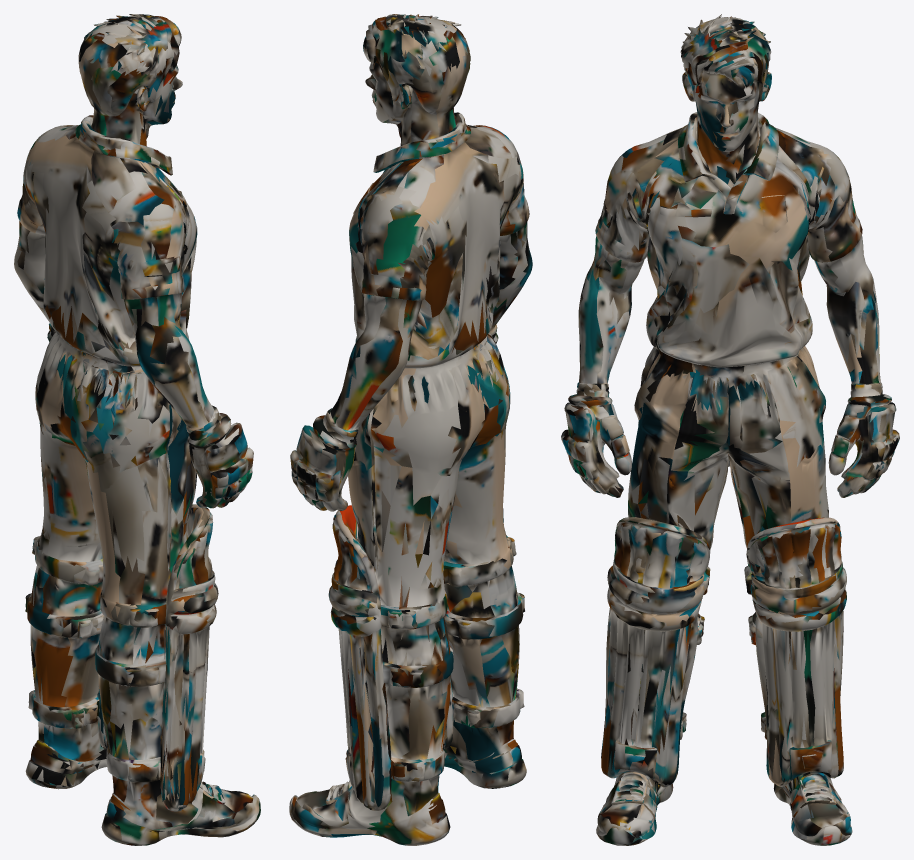
Rendered from SM_C26_Player_Fielder4.fbx.
The picture shows the model from 3 angles, left to right: view 1: azimuth 30°, elevation 25°; view 2: azimuth 150°, elevation 25°; view 3: azimuth 270°, elevation 25°; orthographic projection.
Visible parts, largest first — view 1: node_0; view 2: node_0; view 3: node_0.
Boxes of the visible parts, x1=… form: node_0: x1=14, y1=14, x2=260, y2=845; node_0: x1=289, y1=14, x2=532, y2=845; node_0: x1=561, y1=14, x2=899, y2=845.
Bounding box in the file's own units: 70.57 × 35.94 × 182.
